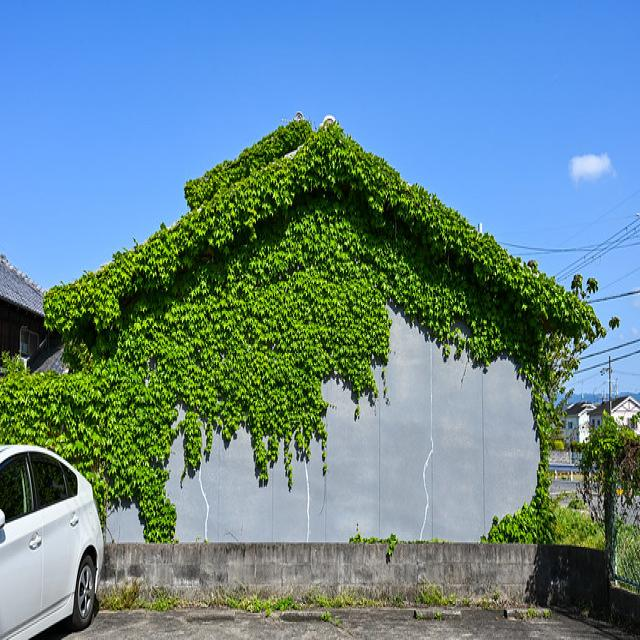Normal_building: (34, 102, 602, 546)
